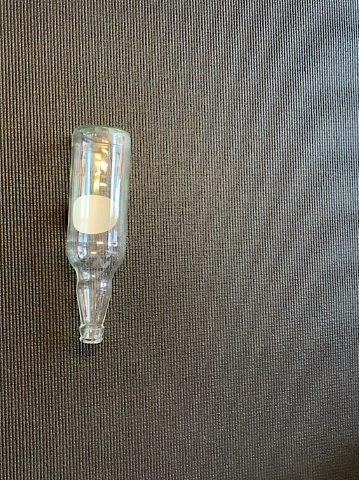botolkaca: (66, 126, 130, 344)
